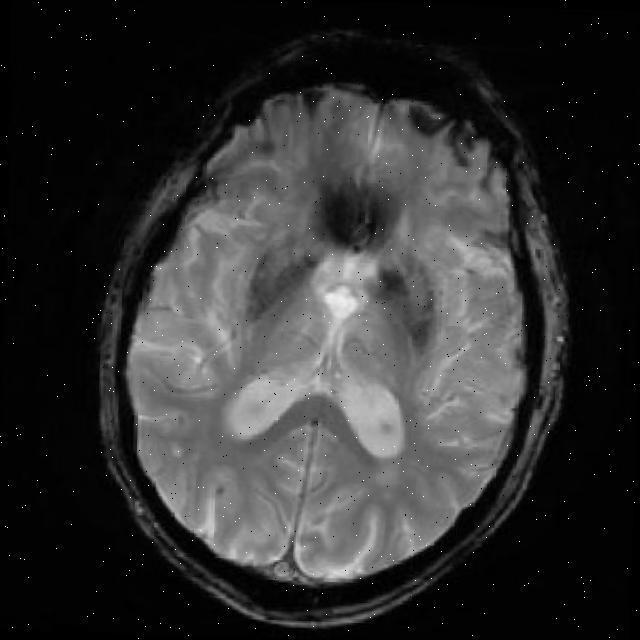EMCI: (316, 155, 400, 245), (374, 264, 462, 348), (242, 257, 312, 315)
